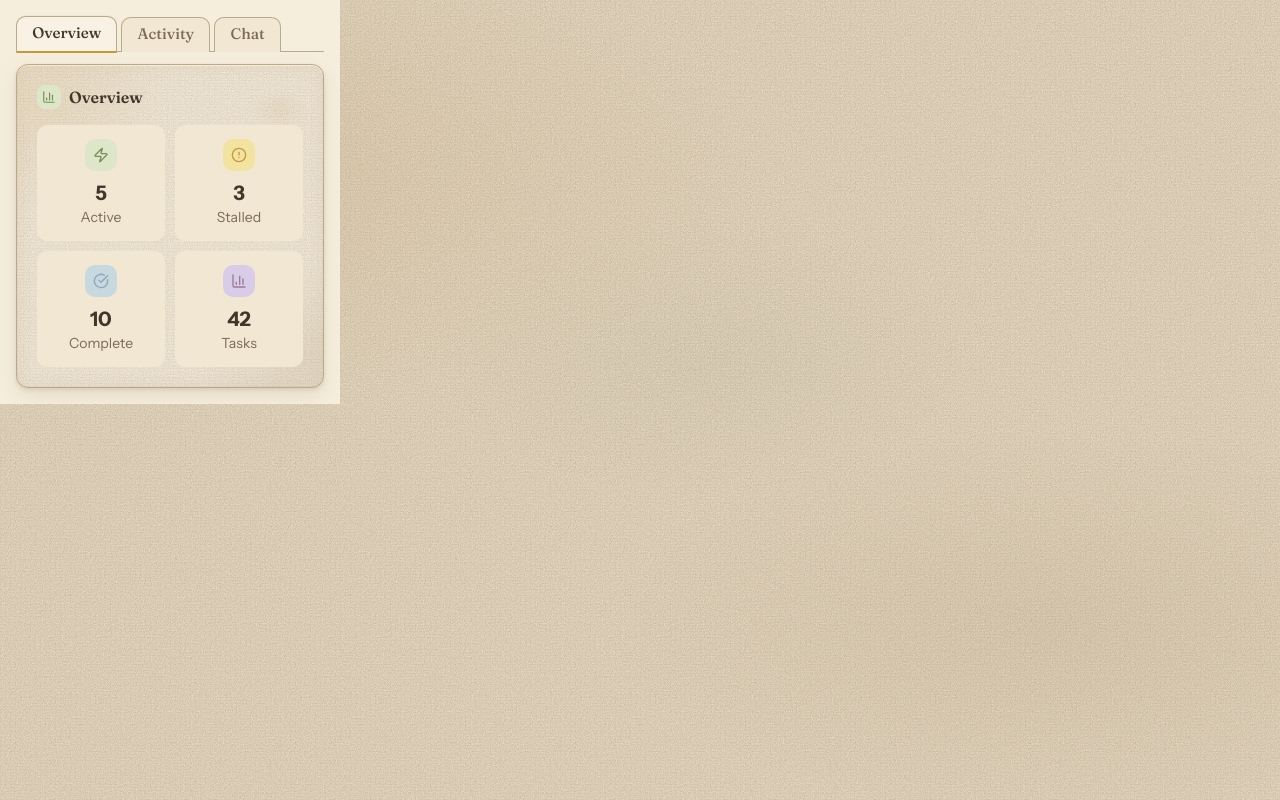
Test: RightPanel › tab navigation › Chat pane displays whisper trace when activity is provided
Click the tab "Chat" at (248, 34), box [214, 17, 281, 52]
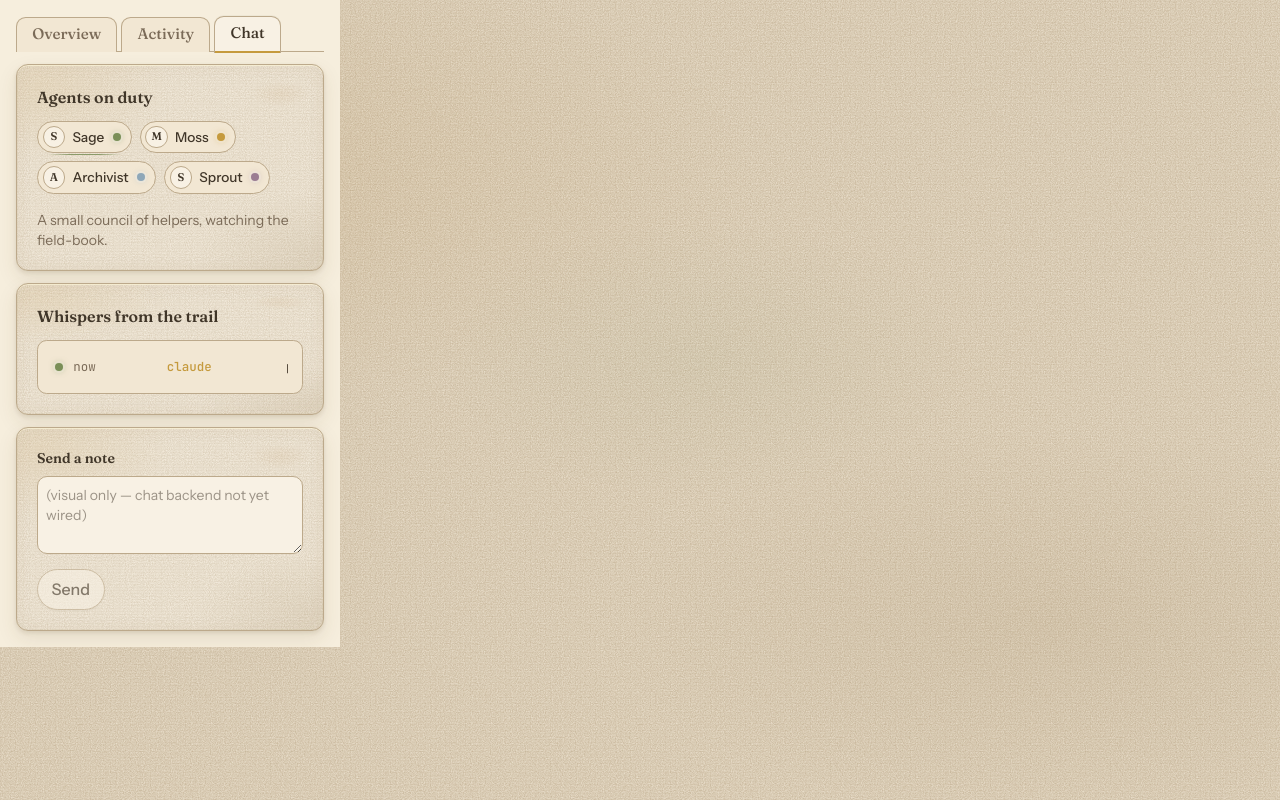
Expected: the text "Whispers from the trail" is shown, [37, 306, 218, 326]
